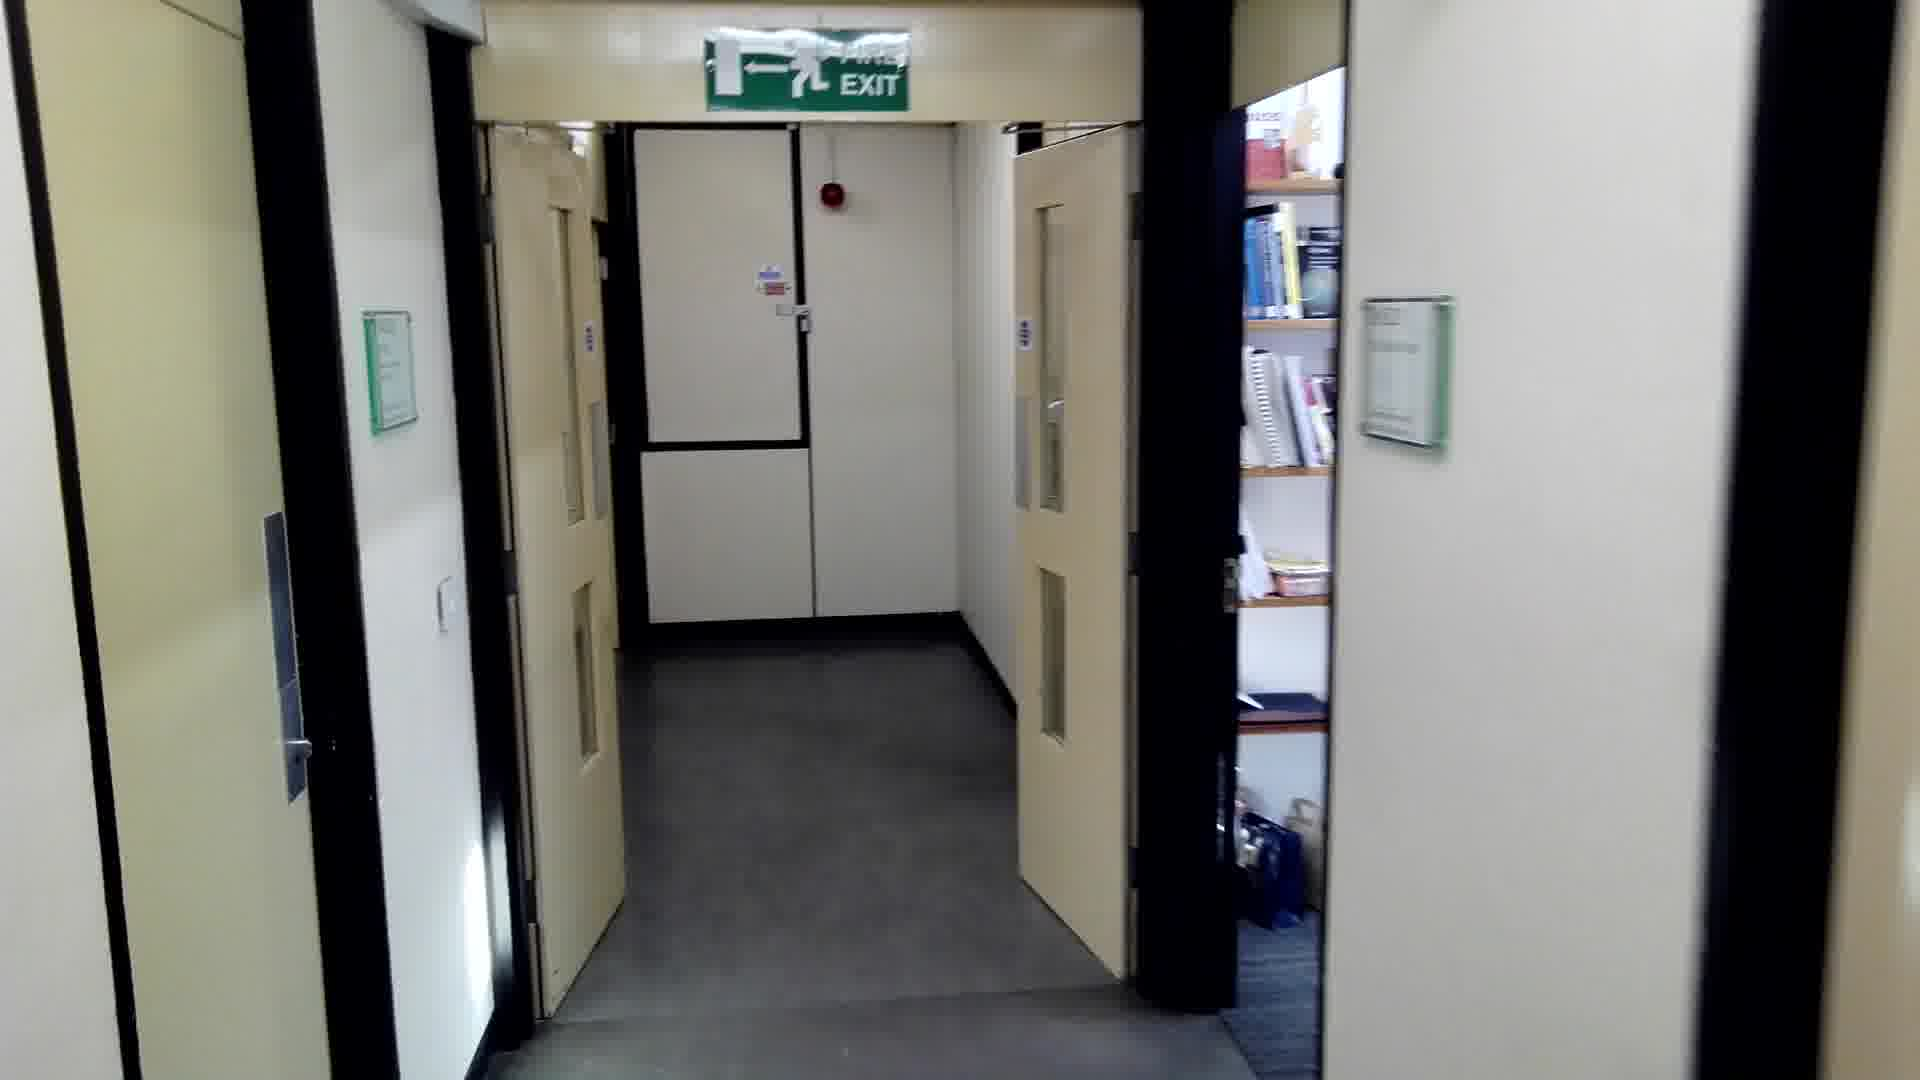Door: (7, 3, 411, 1077), (471, 113, 641, 1019), (992, 121, 1154, 1000)
